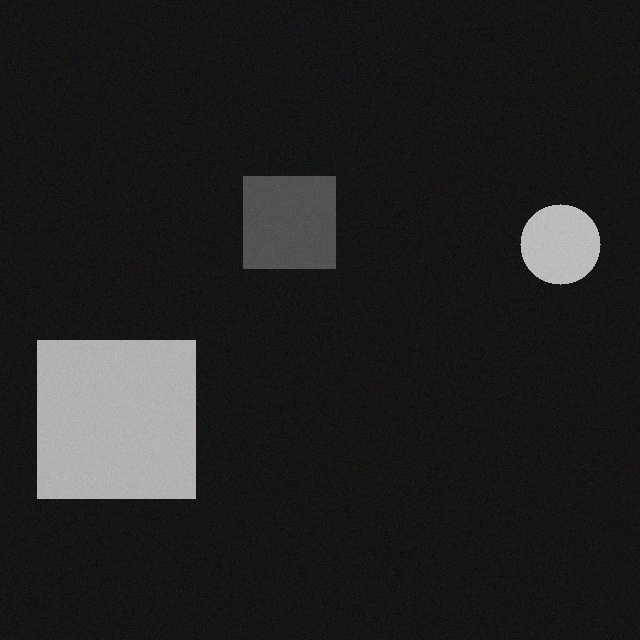circle: (530, 193, 610, 273)
square: (47, 329, 205, 487), (253, 165, 345, 257)
